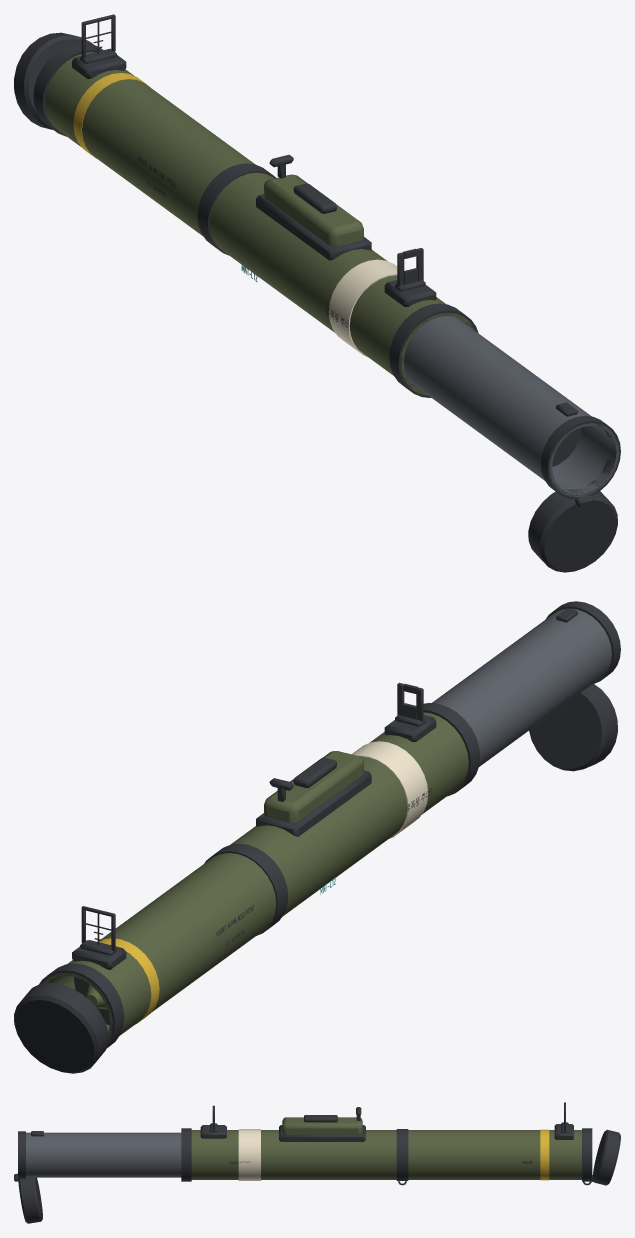
3 views of the same model, one above another, from view 1: azimuth 30°, elevation 25°; view 2: azimuth 150°, elevation 25°; view 3: azimuth 270°, elevation 25° (orthographic). The views are drawn at different scales.
Visible parts, largest first — view 1: body, tube_inner, cover_rear, cover_front, sight_rear, sight_front; view 2: body, tube_inner, cover_front, cover_rear, sight_rear, sight_front, trigger; view 3: body, tube_inner, cover_front, cover_rear, trigger.
Boxes of the visible parts, x1,y1,x2,y2 form: body: (33, 43, 478, 397); tube_inner: (403, 316, 620, 499); cover_rear: (528, 491, 617, 572); cover_front: (14, 32, 93, 129); sight_rear: (395, 248, 425, 291); sight_front: (80, 14, 116, 63); body: (39, 703, 480, 1048); tube_inner: (432, 601, 620, 766); cover_front: (14, 982, 108, 1073); cover_rear: (529, 684, 617, 771); sight_rear: (395, 682, 425, 726); sight_front: (80, 906, 116, 955); trigger: (293, 757, 336, 787); body: (181, 1117, 592, 1185); tube_inner: (18, 1131, 181, 1178); cover_front: (592, 1129, 620, 1185); cover_rear: (14, 1173, 42, 1223); trigger: (304, 1115, 337, 1122).
Bounding box in the file's own units: 0.084 × 0.1943 × 0.9299.
